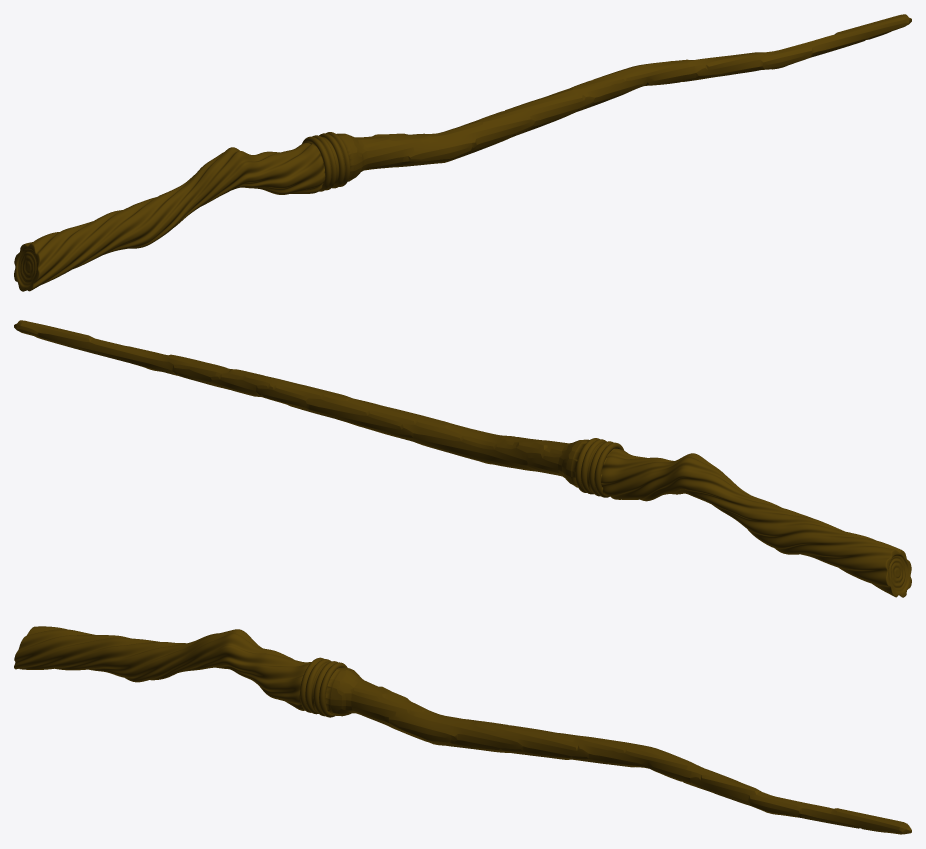
File: wand3.glb
3 views of the same model, one above another, from view 1: azimuth 30°, elevation 25°; view 2: azimuth 150°, elevation 25°; view 3: azimuth 330°, elevation 25° (orthographic).
Parts seen in each view (by area): view 1: Handle; view 2: Handle; view 3: Handle.
Part boxes in pixels (left/top/right/bottom): Handle: left=14, top=14, right=911, bottom=291; Handle: left=14, top=320, right=911, bottom=597; Handle: left=14, top=626, right=911, bottom=834.
Bounding box in the file's own units: 1149 × 110 × 62.84.
